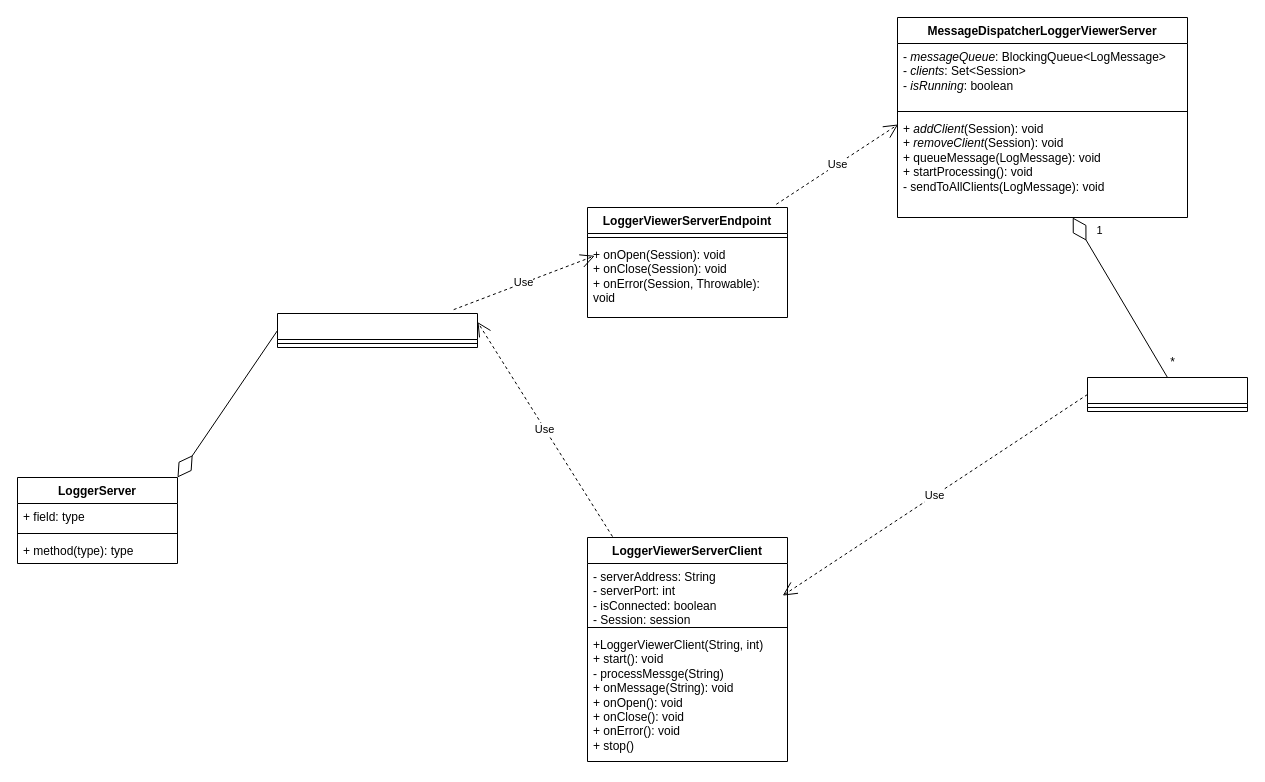
This 1265x782 diagram has some shape labels left out. The shapes that lost their labels are listed below. From the top down, each one's centre as x and y in pixels, then its label:
(377,330): org.tyrus.glassfish.server
(1167,394): Session
